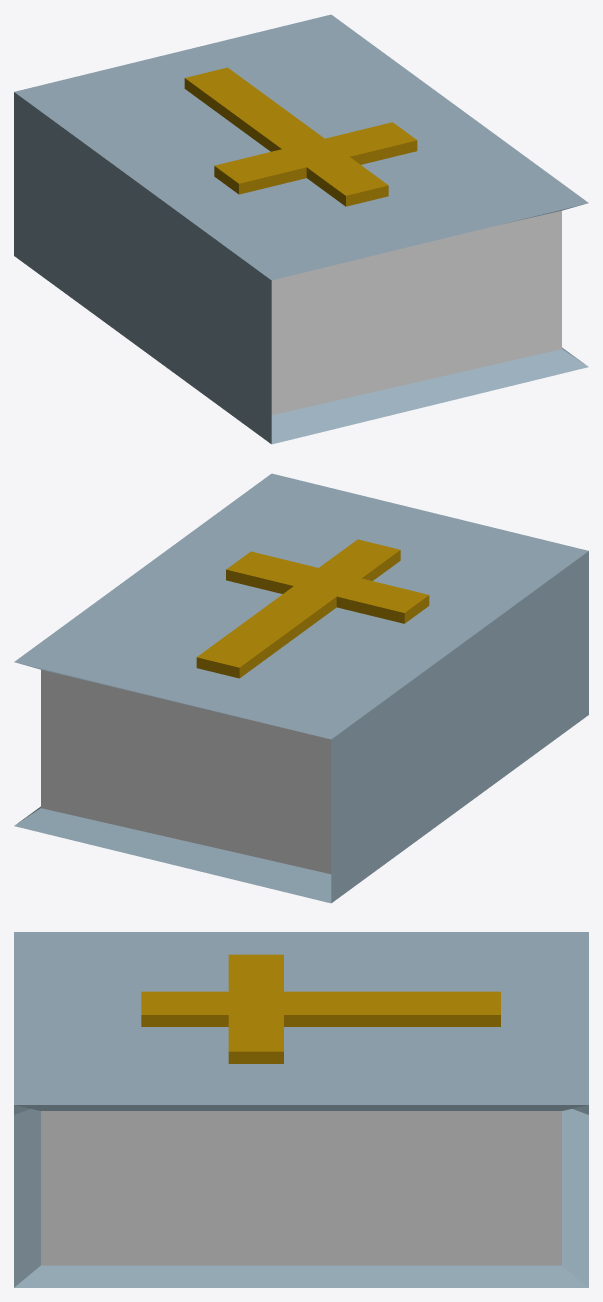
The model's file is char_020_item_bible_01_FBX.fbx.
The picture shows the model from 3 angles, top to bottom: view 1: azimuth 30°, elevation 25°; view 2: azimuth 150°, elevation 25°; view 3: azimuth 270°, elevation 25°; orthographic projection. The views are drawn at different scales.
Visible parts, largest first — view 1: bible, cross_book; view 2: bible, cross_book; view 3: bible, cross_book.
Boxes of the visible parts, x1,y1,x2,y2 form: bible: (14,14,588,444); cross_book: (184,67,417,206); bible: (14,473,588,903); cross_book: (196,539,429,678); bible: (14,932,588,1287); cross_book: (141,954,500,1063).
Size of the model in its own units: 0.5814 by 0.325 by 0.8177.
1 material, 1 textured.
